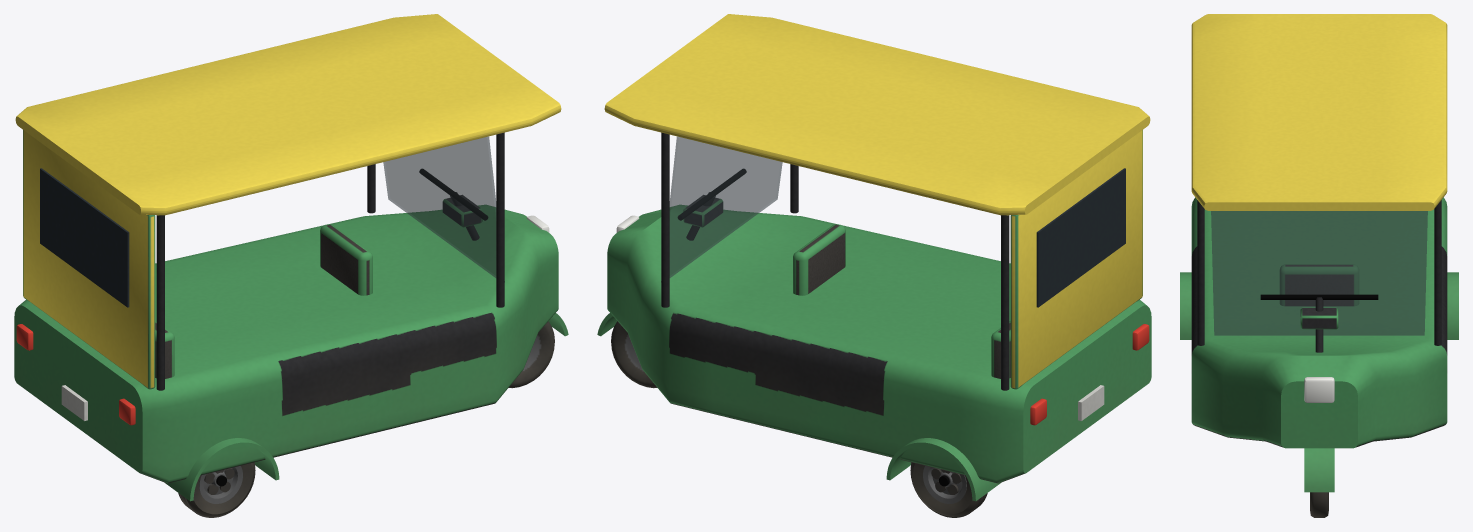
File: tuk-tuk.glb
3 views of the same model, side by side, from view 1: azimuth 30°, elevation 25°; view 2: azimuth 150°, elevation 25°; view 3: azimuth 270°, elevation 25° (orthographic). The views are drawn at different scales.
Visible parts, largest first — view 1: body, glass_windshield, wheel_rr_tire, wheel_rr_rim, wheel_fr_tire; view 2: body, glass_windshield, wheel_rl_tire, wheel_rl_rim, wheel_fl_tire; view 3: body, glass_windshield, headlight_left.
Boxes of the visible parts, x1,y1,x2,y2 form: body: (14,14,568,501); glass_windshield: (383,136,504,281); wheel_rr_tire: (178,462,255,517); wheel_rr_rim: (199,466,242,503); wheel_fr_tire: (508,321,554,388); body: (597,14,1151,501); glass_windshield: (661,136,782,281); wheel_rl_tire: (910,462,987,517); wheel_rl_rim: (923,466,966,503); wheel_fl_tire: (611,321,657,388); body: (1180,14,1458,492); glass_windshield: (1211,211,1427,335); headlight_left: (1304,377,1334,402).
Size of what is drawn, in the model's own units: 2.73 by 1.77 by 1.47.
Materials: 6 (5 with a texture image).
